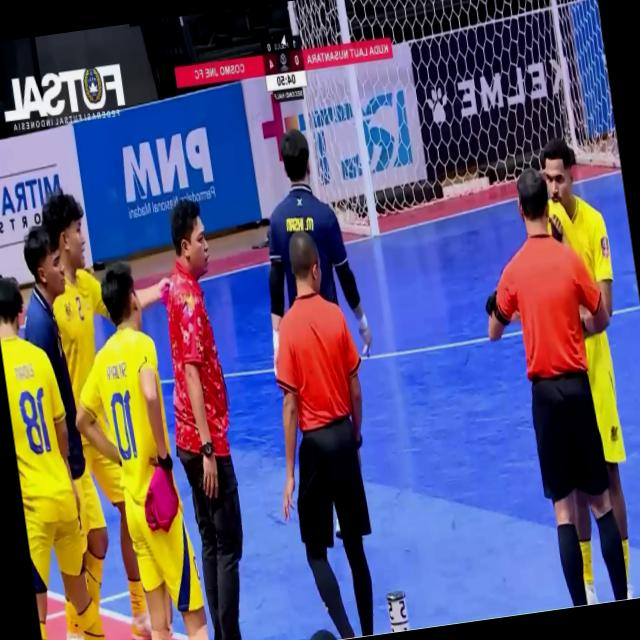referee: (486, 169, 627, 605), (275, 232, 372, 638)
